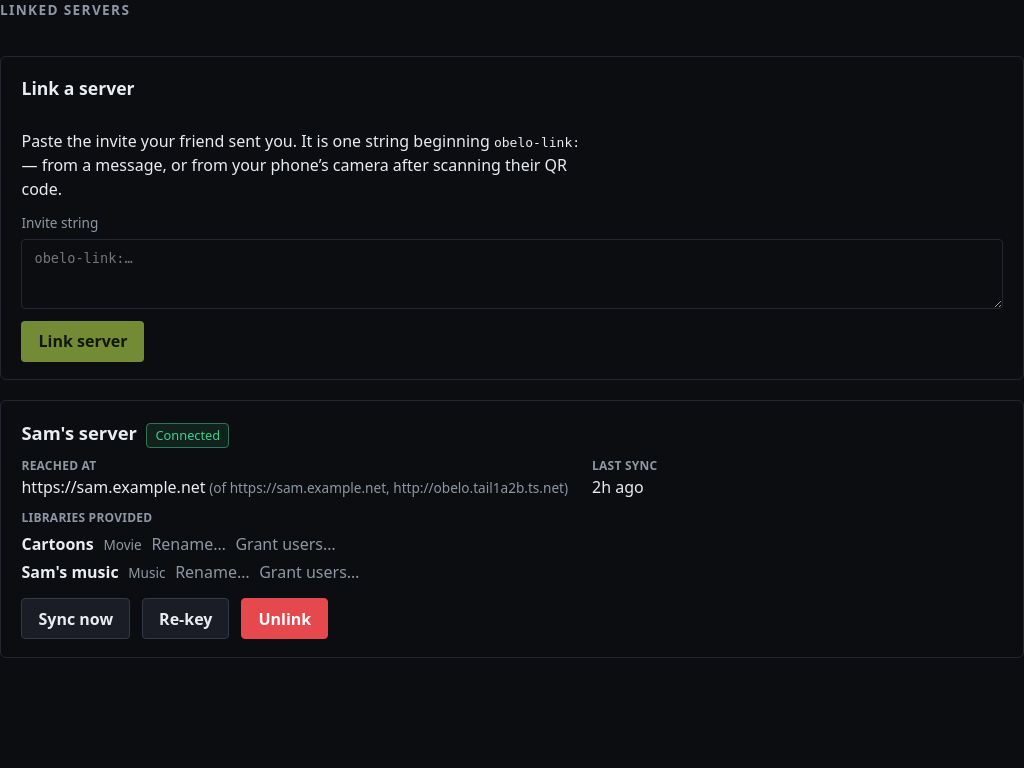
Scenario: AdminLinkedServersScreen — the walkthrough › unlinks behind a confirmation that NAMES the libraries and the watch state
Click the button with test id "link-unlink" at {"x": 285, "y": 619}, box [241,598,328,639]
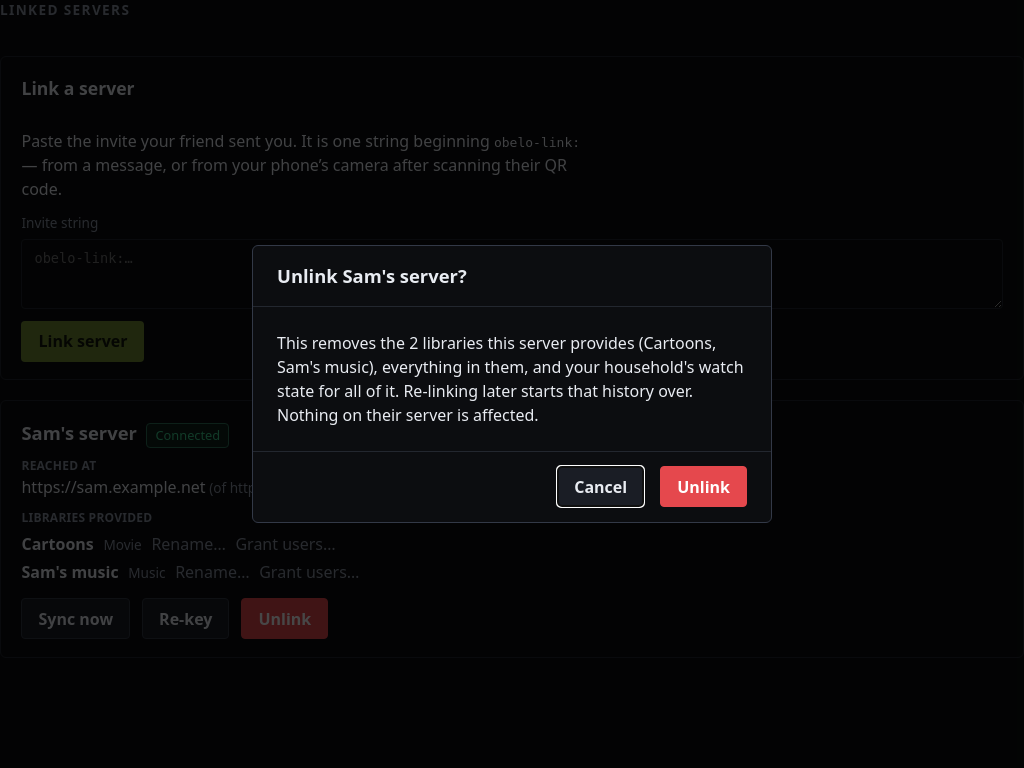
Now the text with test id "confirm-dialog-message" shows "Cartoons", box [277,332,744,426]
Now the text with test id "confirm-dialog-message" shows "Sam's music", box [277,332,744,426]
Now the text with test id "confirm-dialog-message" shows "watch state", box [277,332,744,426]
Click the button with test id "confirm-dialog-confirm" at {"x": 704, "y": 487}, box [660,466,747,507]
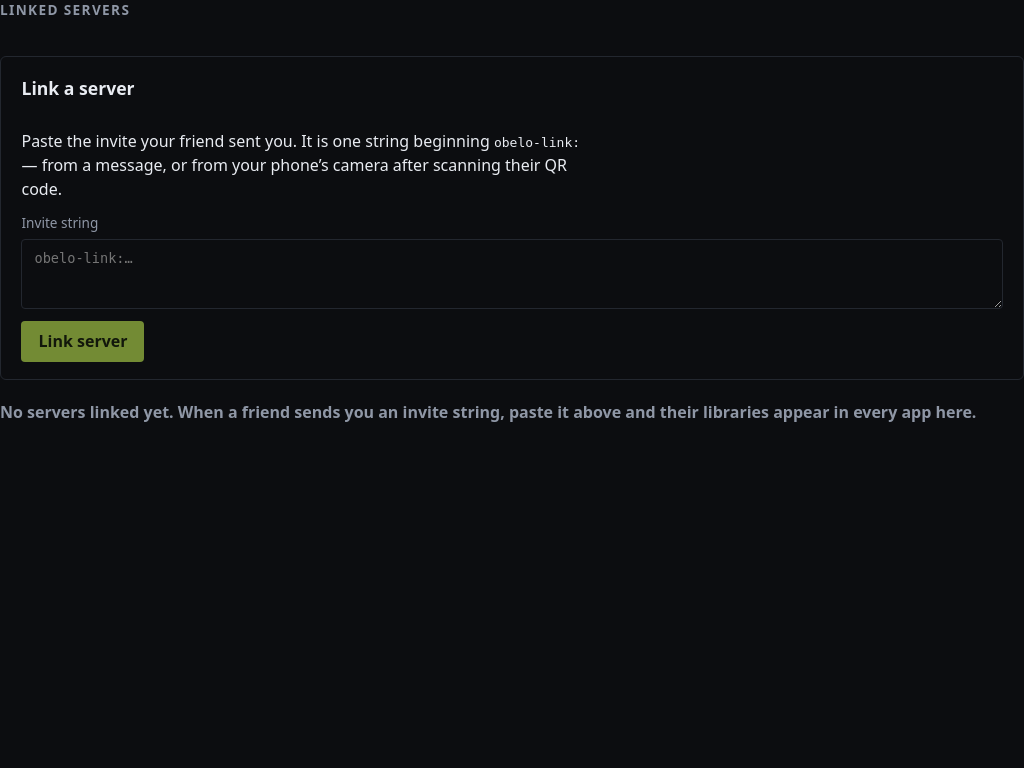
Now the text with test id "links-empty" is shown, box [0,400,1023,424]
